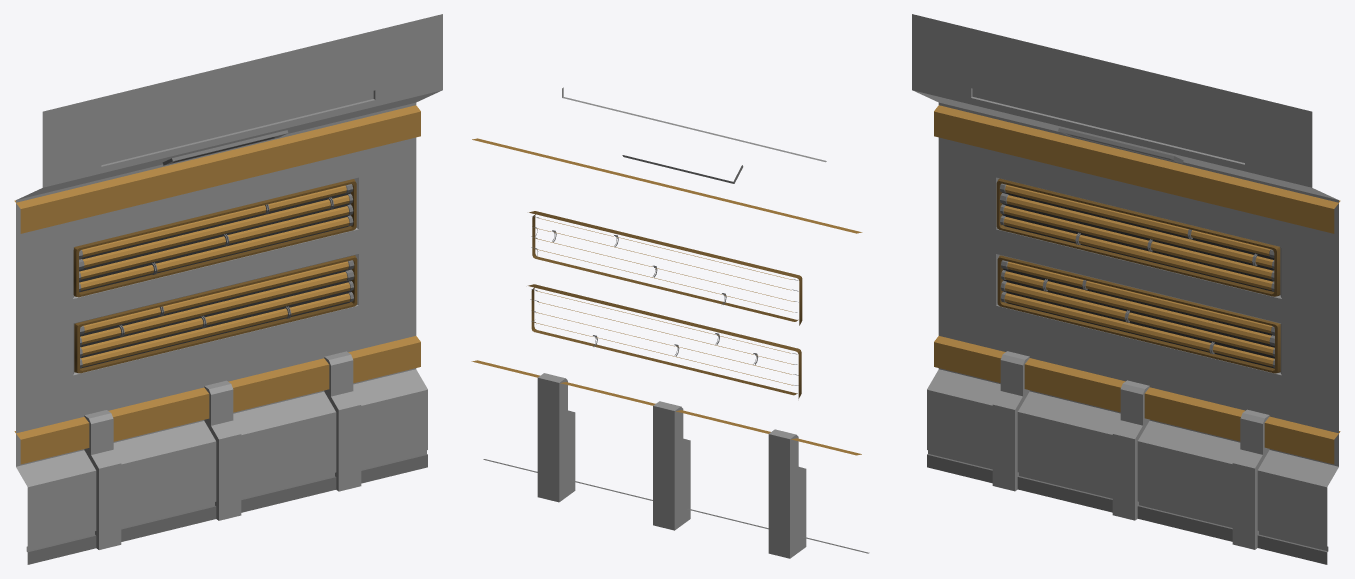
Rendered from Wall_5.glb.
3 renders of one model, left to right at view 1: azimuth 30°, elevation 25°; view 2: azimuth 150°, elevation 25°; view 3: azimuth 330°, elevation 25°, orthographic. The views are drawn at different scales.
Parts seen in each view (by area): view 1: Wall_5; view 2: Wall_5; view 3: Wall_5.
Boxes of the visible parts, x1=… form: Wall_5: x1=14, y1=14, x2=442, y2=564; Wall_5: x1=471, y1=87, x2=869, y2=558; Wall_5: x1=912, y1=14, x2=1340, y2=564.
Size of the model in its own units: 4 by 4.43 by 0.5279.
